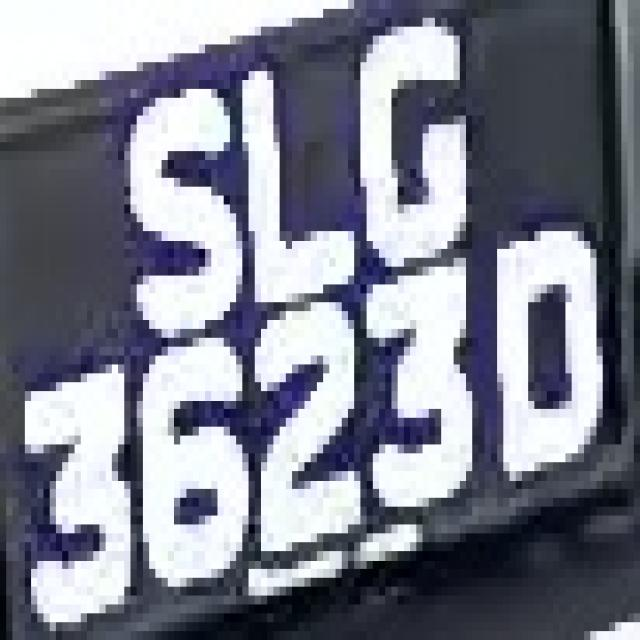2: (248, 267, 366, 560)
3: (354, 231, 466, 542), (12, 364, 143, 622)
6: (124, 329, 261, 587)
D: (479, 213, 615, 498)
G: (342, 35, 472, 266)
L: (212, 53, 361, 320)
S: (105, 71, 248, 338)
